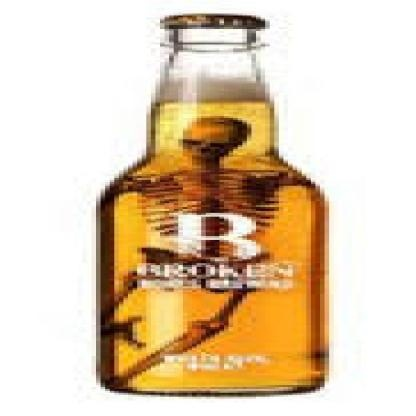trash: (98, 14, 326, 393)
